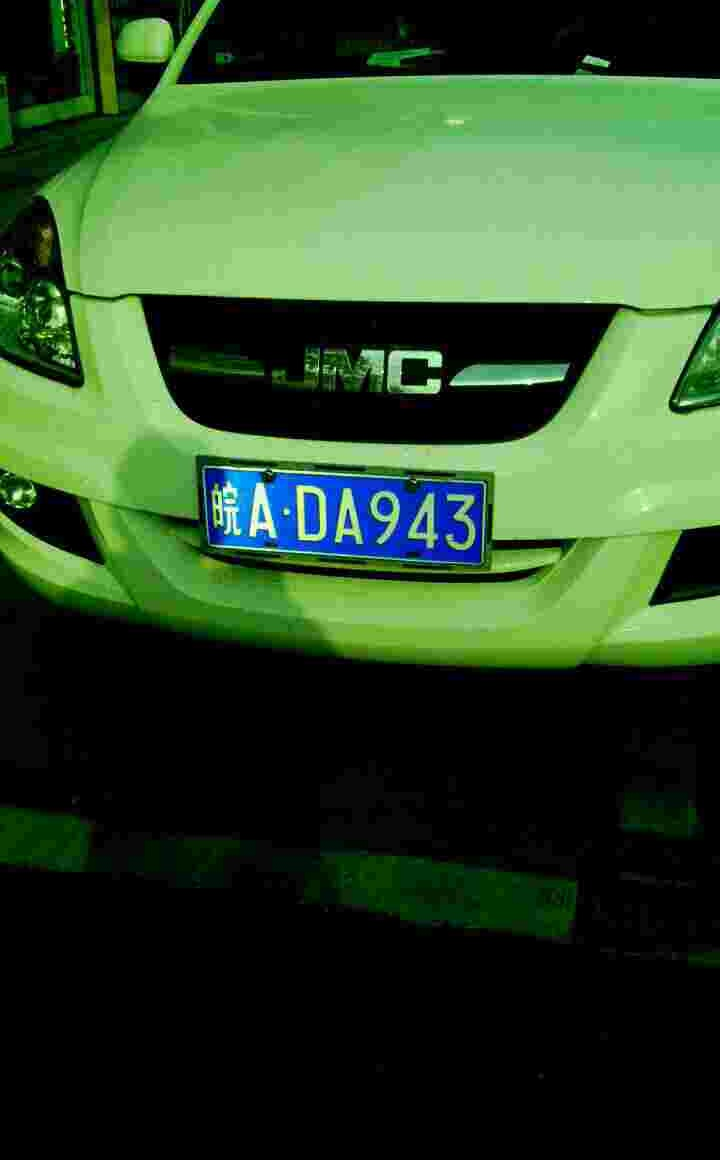license_plate: (202, 463, 494, 566)
